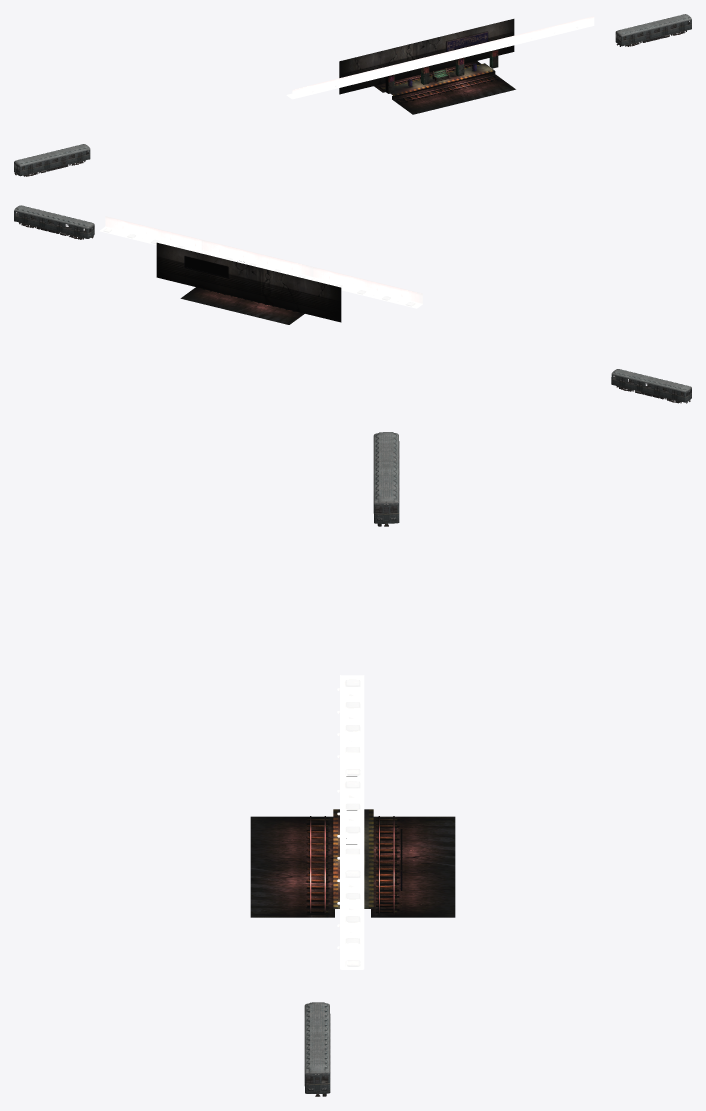
The model's file is UMK3iOSSubway.glb.
3 renders of one model, top to bottom at view 1: azimuth 30°, elevation 25°; view 2: azimuth 150°, elevation 25°; view 3: azimuth 270°, elevation 25°, orthographic. The views are drawn at different scales.
Visible parts, largest first — view 1: Wall, Floor, Train, TrainFront, Roof.001, Roof, Roof.002, Platform, Pillars, Tracks, FloorBack; view 2: Wall, Roof.001, FloorBack, Roof, Roof.002, Train, TrainFront; view 3: Floor, FloorBack, Roof.001, Roof, TrainFront, Train, Roof.002, Platform, Tracks.001, Tracks.
Part boxes in pixels (x1,y1,x2,y2): Wall: (339,19,514,94); Floor: (392,71,515,114); Train: (14,144,90,176); TrainFront: (615,14,691,46); Roof.001: (286,64,398,99); Roof: (398,38,502,73); Roof.002: (488,16,594,47); Platform: (383,63,494,95); Pillars: (385,49,498,93); Tracks: (396,75,499,103); FloorBack: (374,61,480,92); Wall: (156,242,341,322); Roof.001: (310,267,422,308); FloorBack: (180,287,304,324); Roof: (198,240,313,279); Roof.002: (99,216,216,255); Train: (611,369,691,403); TrainFront: (14,205,94,239); Floor: (250,816,334,917); FloorBack: (371,816,455,917); Roof.001: (337,675,364,777); Roof: (337,776,364,880); TrainFront: (304,1002,330,1096); Train: (373,432,399,526); Roof.002: (337,866,364,969); Platform: (333,809,373,908); Tracks.001: (376,816,397,913); Tracks: (307,816,328,913).
Size of what is drawn, in the model's own units: 169 by 8.58 by 22.78.
35 materials, 27 textured.
